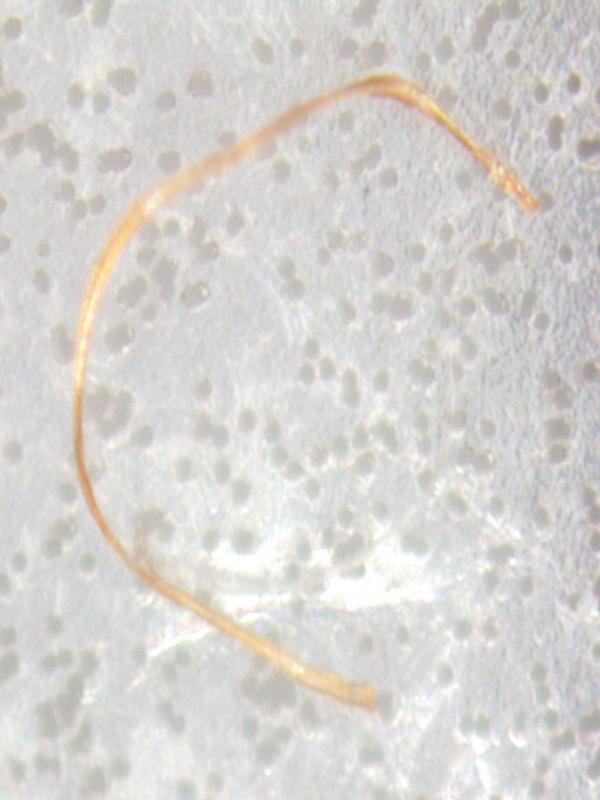microplastic: (70, 69, 540, 714)
